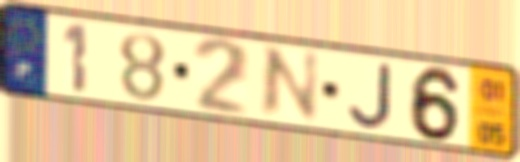1: (61, 22, 91, 97)
2: (190, 35, 252, 119)
6: (406, 64, 466, 145)
8: (115, 27, 169, 106)
J: (346, 60, 395, 131)
N: (256, 44, 322, 123)
